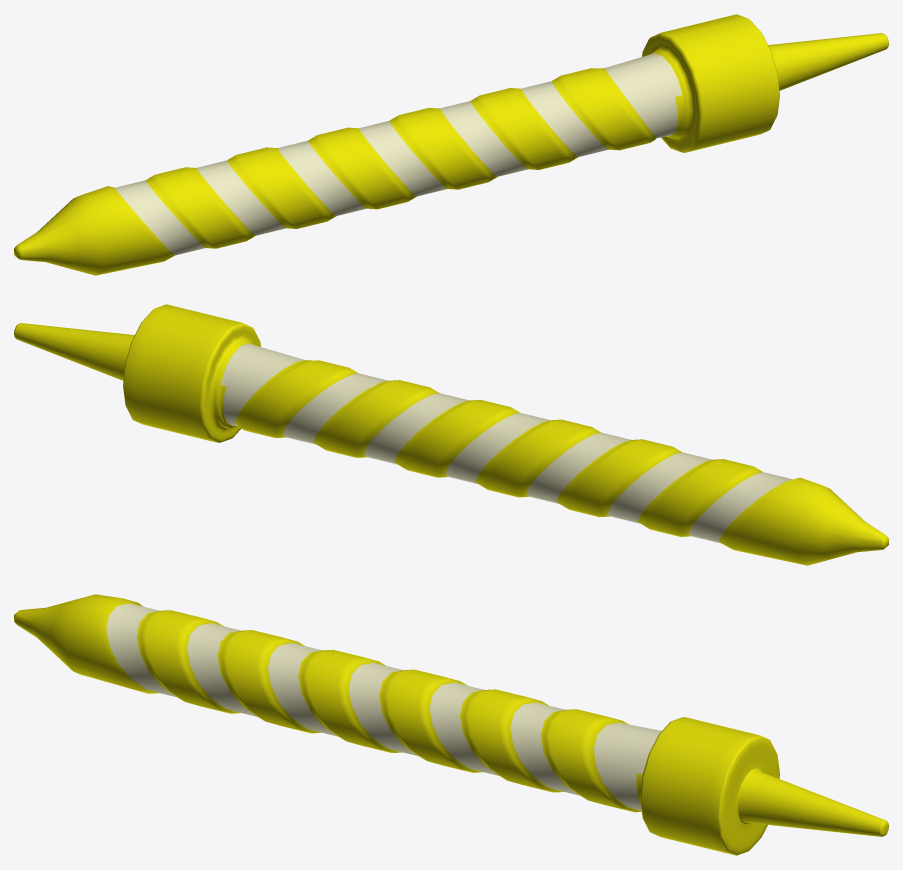
The model's file is candle 1.fbx.
3 renders of one model, top to bottom at view 1: azimuth 30°, elevation 25°; view 2: azimuth 150°, elevation 25°; view 3: azimuth 330°, elevation 25°, orthographic.
Parts seen in each view (by area): view 1: candle; view 2: candle; view 3: candle.
Boxes of the visible parts, box(x1,y1,x2,y2) form: candle: box(14, 14, 888, 275); candle: box(14, 304, 888, 565); candle: box(14, 594, 888, 855).
Size of the model in its own units: 971 by 119 by 119.
